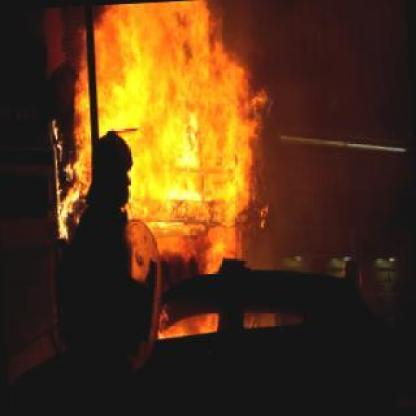Fire: (49, 0, 272, 273), (159, 304, 232, 349)
